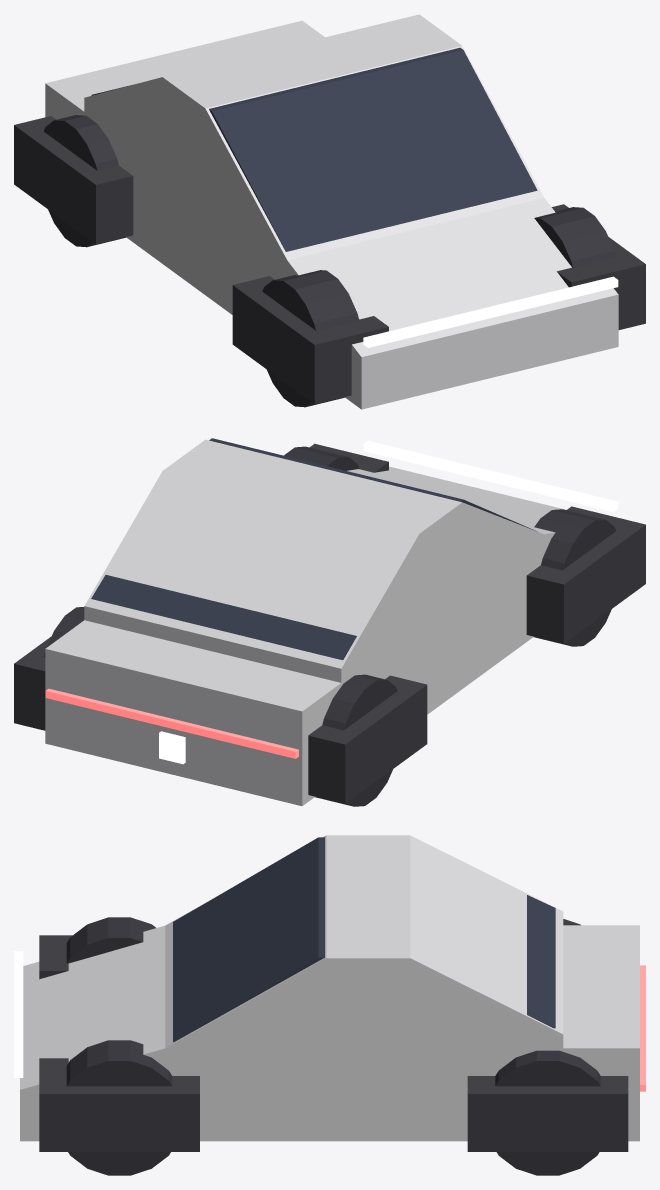
The model's file is cybertruck.glb.
3 renders of one model, top to bottom at view 1: azimuth 30°, elevation 25°; view 2: azimuth 150°, elevation 25°; view 3: azimuth 270°, elevation 25°, orthographic. The views are drawn at different scales.
Visible parts, largest first — view 1: Cybertruck_Body, Cybertruck_Glass, WheelFL_Arch, WheelBL_Arch, WheelFL, WheelFR_Arch, FrontLightBar, WheelFR, WheelBL; view 2: Cybertruck_Body, WheelFL_Arch, WheelBL_Arch, Cybertruck_Glass, WheelFL, FrontLightBar, WheelBL, RearLightBar, WheelBR_Arch, WheelFR, Logo, WheelFR_Arch (+1 smaller); view 3: Cybertruck_Body, Cybertruck_Glass, WheelFR_Arch, WheelBR_Arch, WheelFR, WheelBR, WheelFL, FrontLightBar, WheelFL_Arch, RearLightBar.
Part boxes in pixels (x1=…): Cybertruck_Body: x1=45, y1=14, x2=618, y2=409; Cybertruck_Glass: x1=91, y1=47, x2=537, y2=251; WheelFL_Arch: x1=232, y1=276, x2=388, y2=404; WheelBL_Arch: x1=14, y1=116, x2=133, y2=244; WheelFL: x1=262, y1=270, x2=359, y2=407; WheelFR_Arch: x1=551, y1=204, x2=645, y2=329; FrontLightBar: x1=363, y1=276, x2=618, y2=347; WheelFR: x1=534, y1=207, x2=616, y2=267; WheelBL: x1=43, y1=115, x2=125, y2=247; Cybertruck_Body: x1=45, y1=439, x2=566, y2=806; WheelFL_Arch: x1=526, y1=506, x2=645, y2=643; WheelBL_Arch: x1=308, y1=675, x2=427, y2=803; Cybertruck_Glass: x1=91, y1=438, x2=537, y2=660; WheelFL: x1=534, y1=509, x2=615, y2=646; FrontLightBar: x1=363, y1=440, x2=618, y2=511; WheelBL: x1=315, y1=674, x2=397, y2=806; RearLightBar: x1=45, y1=688, x2=298, y2=758; WheelBR_Arch: x1=14, y1=636, x2=51, y2=730; WheelFR: x1=284, y1=446, x2=359, y2=470; Logo: x1=159, y1=731, x2=185, y2=764; WheelFR_Arch: x1=309, y1=443, x2=388, y2=472; Cybertruck_Body: x1=20, y1=835, x2=639, y2=1141; Cybertruck_Glass: x1=173, y1=837, x2=555, y2=1042; WheelFR_Arch: x1=39, y1=1058, x2=199, y2=1151; WheelBR_Arch: x1=467, y1=1076, x2=628, y2=1151; WheelFR: x1=66, y1=1040, x2=172, y2=1175; WheelBR: x1=495, y1=1050, x2=600, y2=1175; WheelFL: x1=66, y1=917, x2=155, y2=963; FrontLightBar: x1=14, y1=951, x2=23, y2=1077; WheelFL_Arch: x1=39, y1=935, x2=72, y2=979; RearLightBar: x1=640, y1=965, x2=645, y2=1091.
Size of the model in its own units: 2.45 by 1.49 by 4.13.
